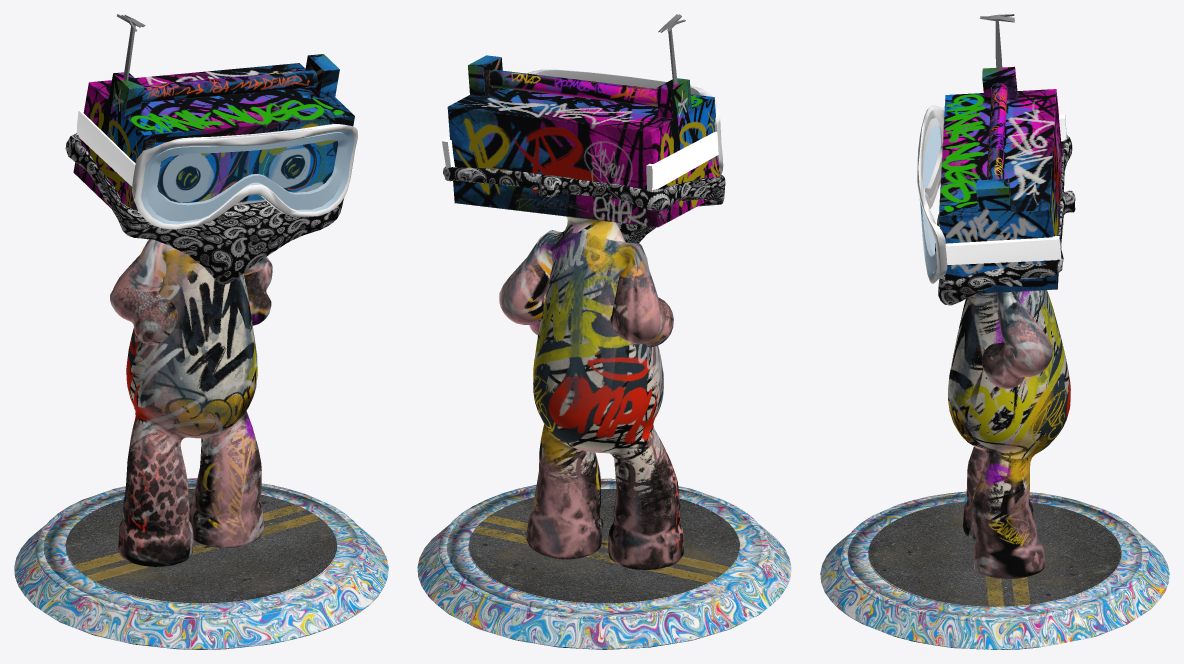
3 views of the same model, side by side, from view 1: azimuth 30°, elevation 25°; view 2: azimuth 150°, elevation 25°; view 3: azimuth 270°, elevation 25° (orthographic). The views are drawn at different scales.
Parts seen in each view (by area): view 1: BBody; view 2: BBody; view 3: BBody.
Part boxes in pixels (<box>): BBody: <box>14,14,388,649</box>; BBody: <box>417,14,791,649</box>; BBody: <box>820,14,1169,649</box>.
Size of the model in its own units: 1.45 by 2.42 by 1.45.
Materials: 9 (5 with a texture image).
